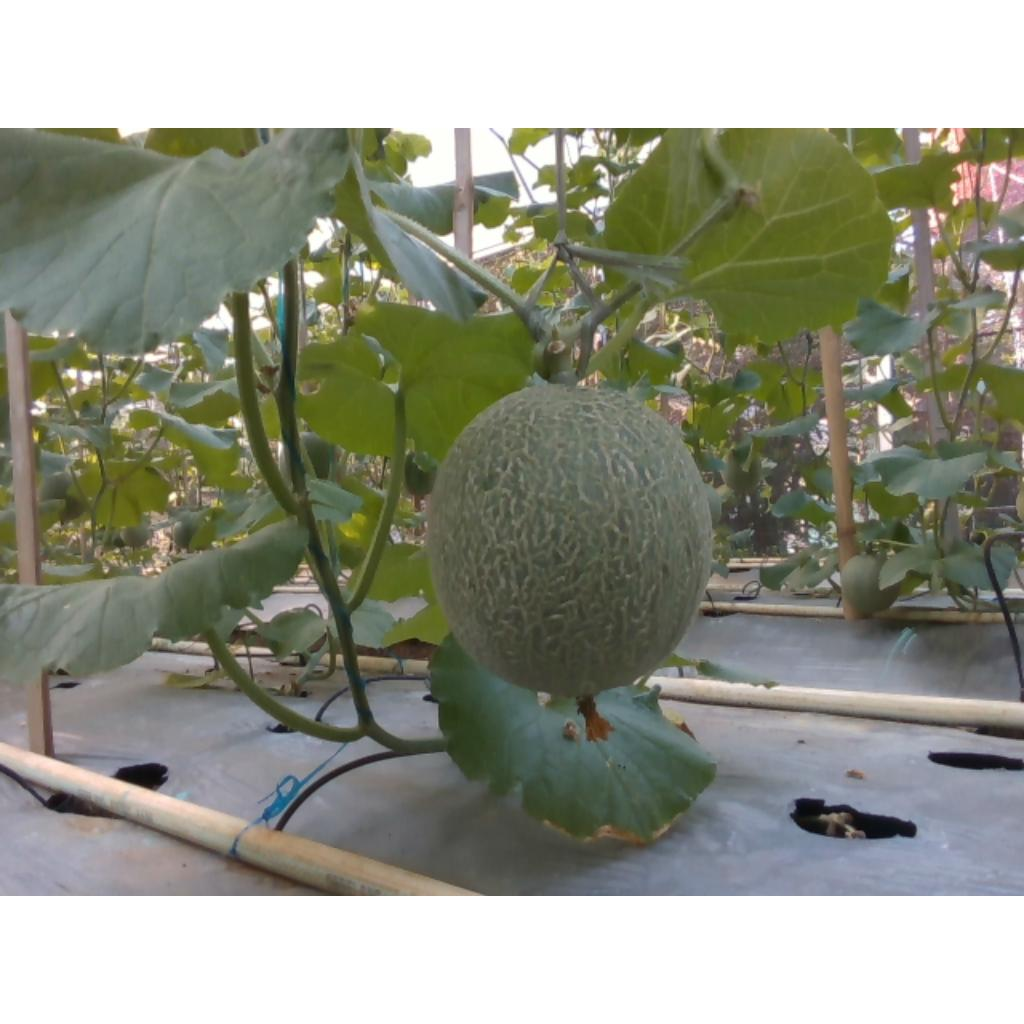melon: (429, 384, 714, 697)
